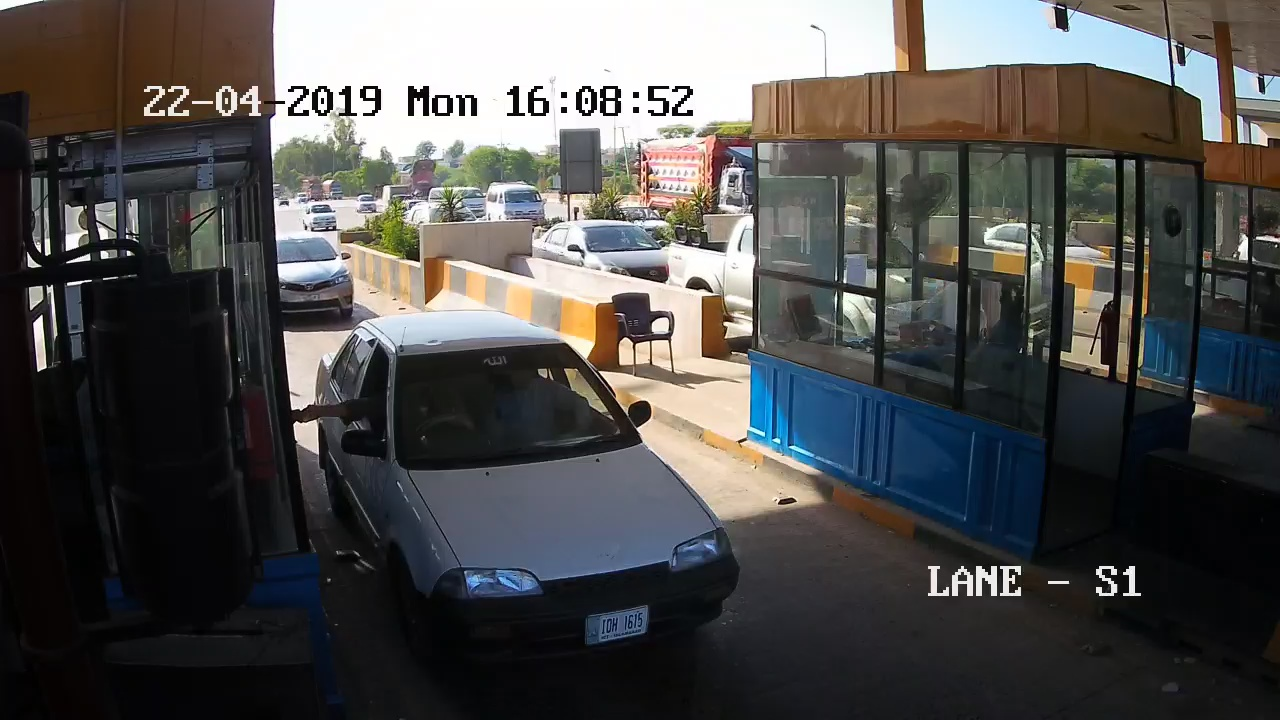Number Plate (Car): (583, 609, 648, 640)
